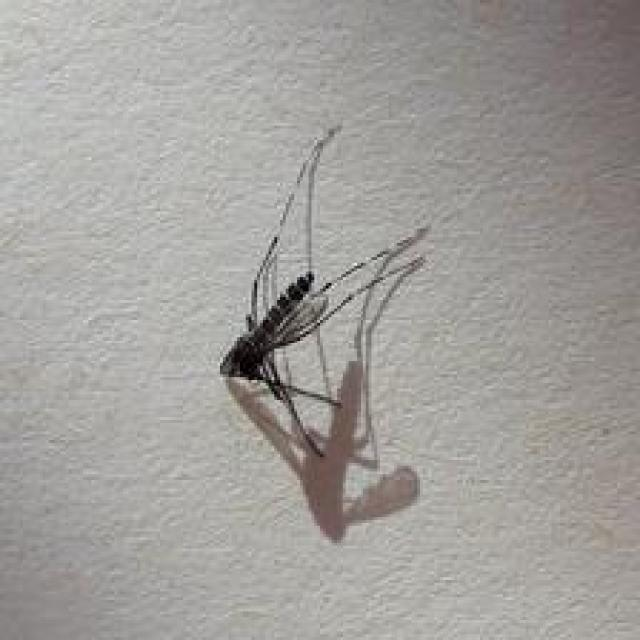Aedes albopictus: (219, 122, 430, 464)
